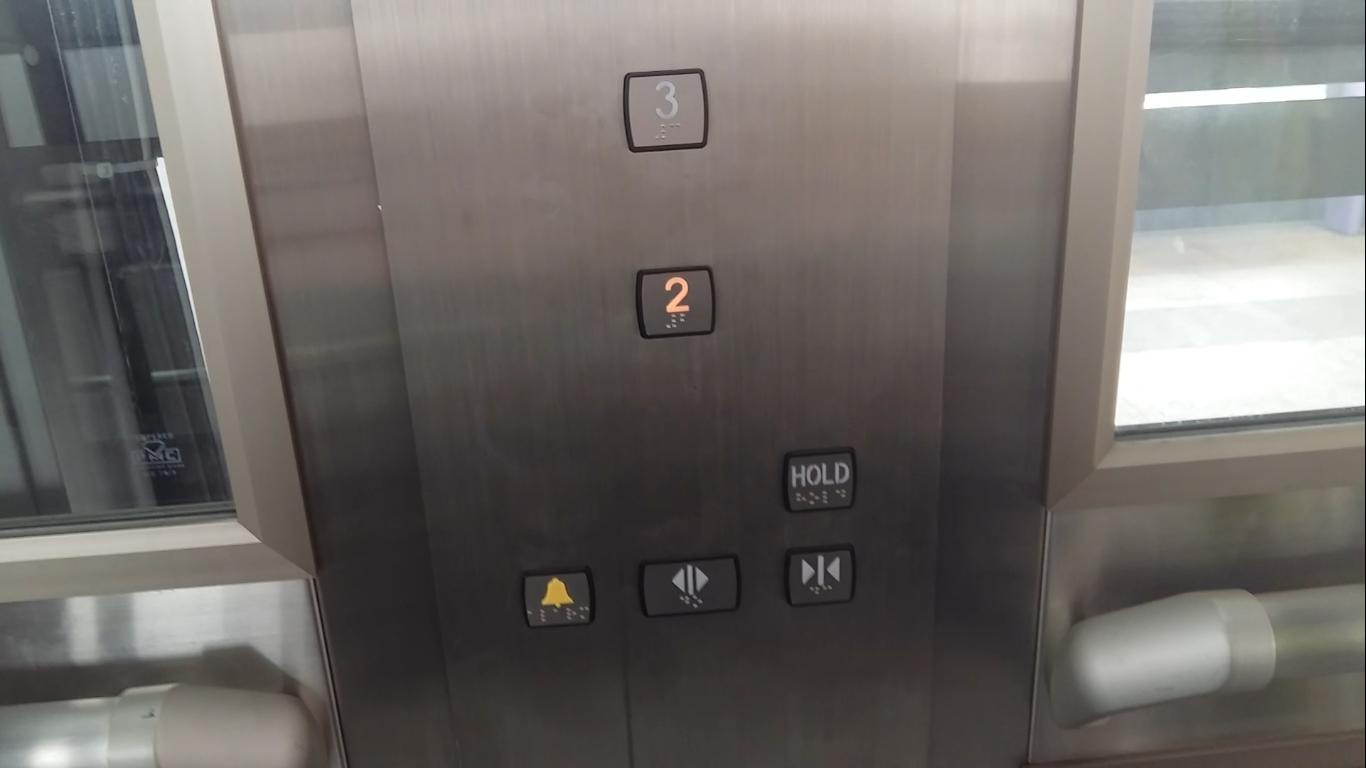2: (635, 264, 717, 341)
3: (622, 67, 712, 155)
alarm: (517, 564, 598, 633)
close: (778, 538, 859, 612)
open: (638, 553, 742, 619)
text_HOLD: (780, 444, 859, 515)
